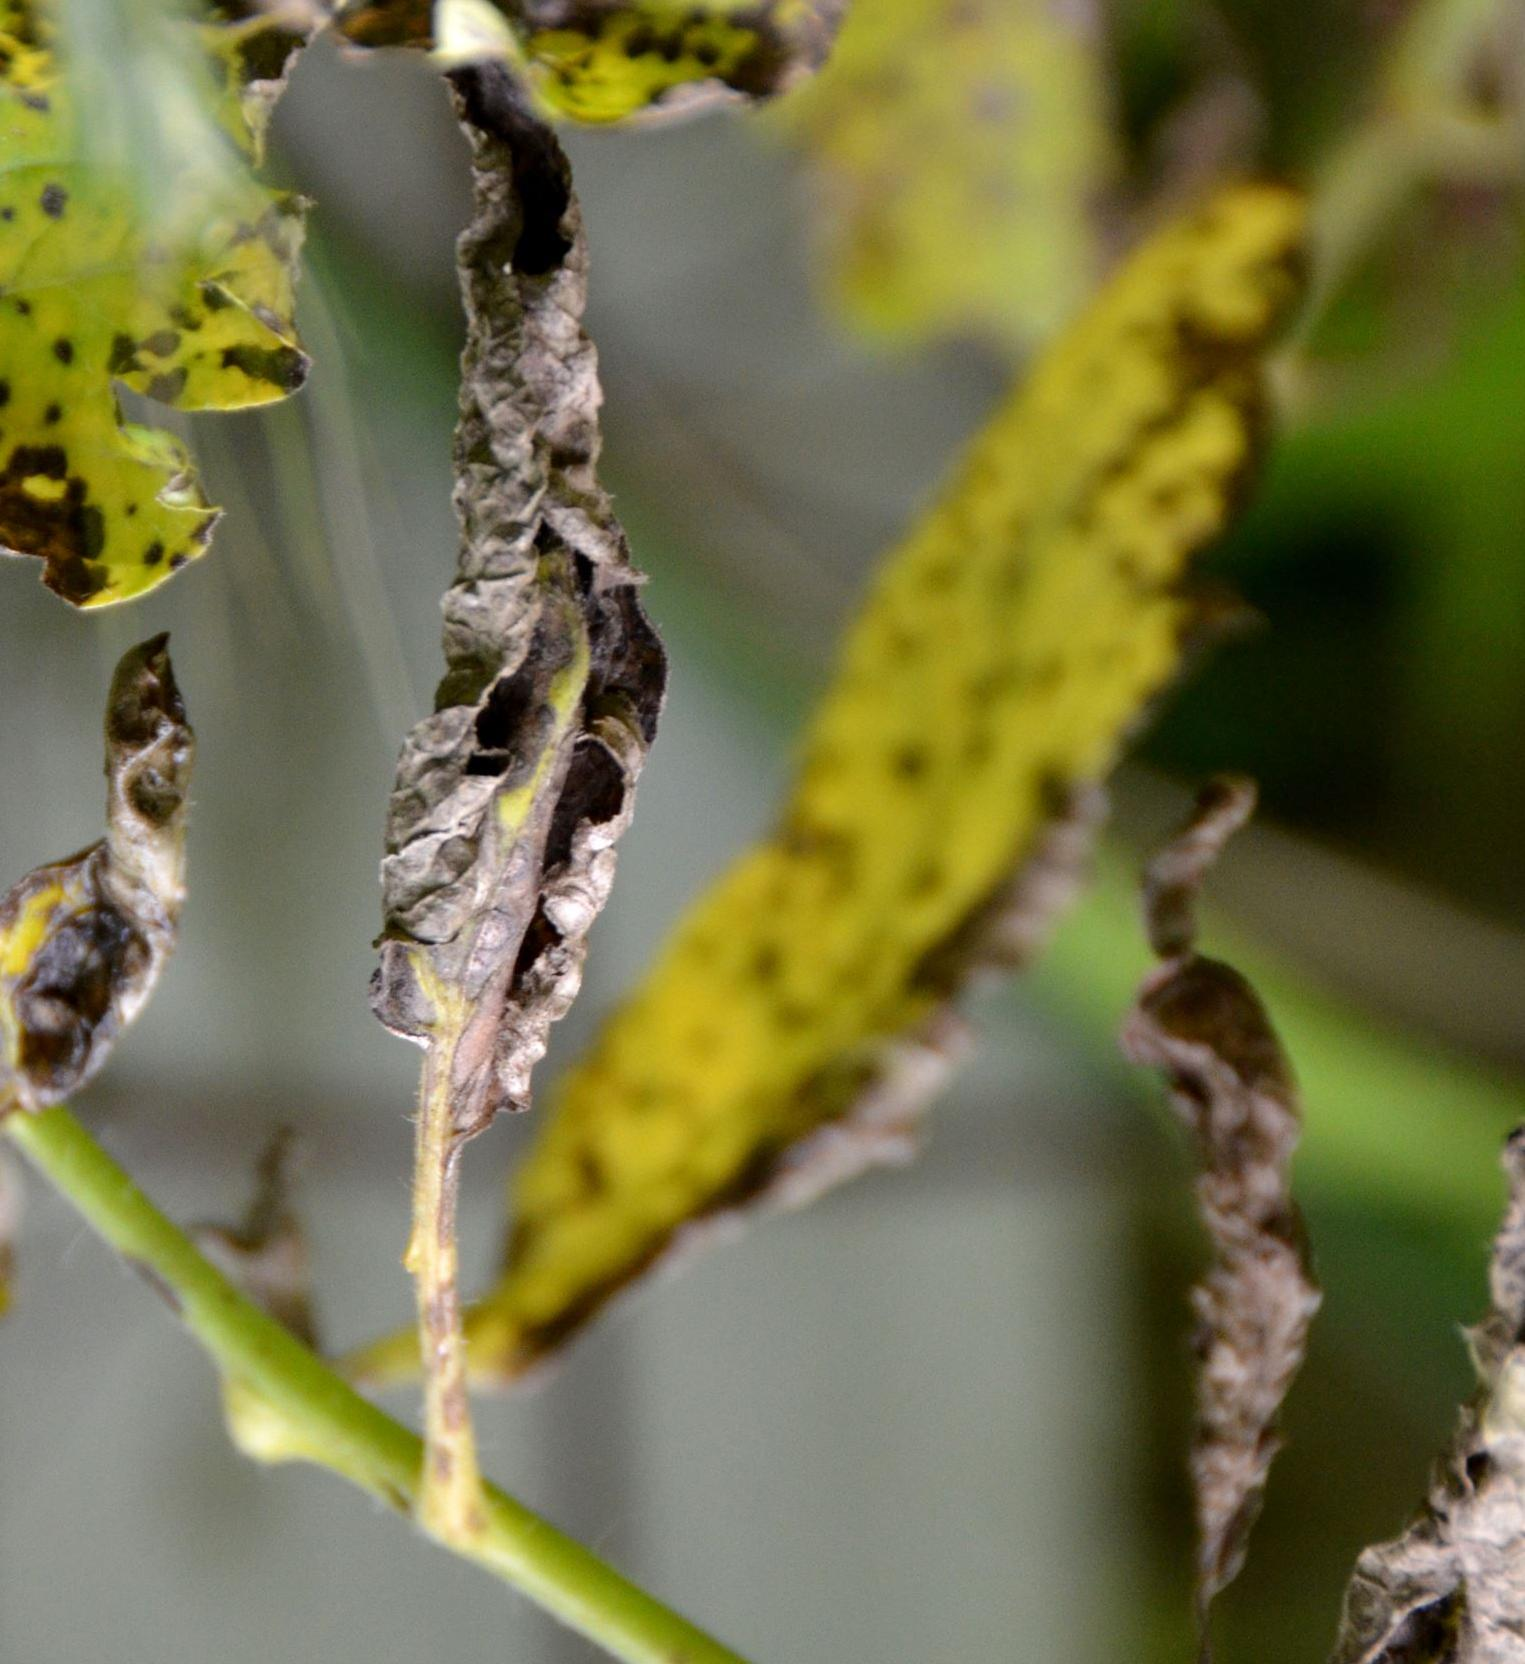Tomato Septoria leaf spot: (493, 217, 1300, 1378), (0, 0, 462, 597)
